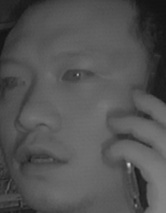eye: (60, 64, 93, 85), (2, 71, 29, 91)
mouth: (15, 139, 72, 177)
